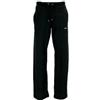abbigliamento_uomo: (34, 3, 68, 96)
